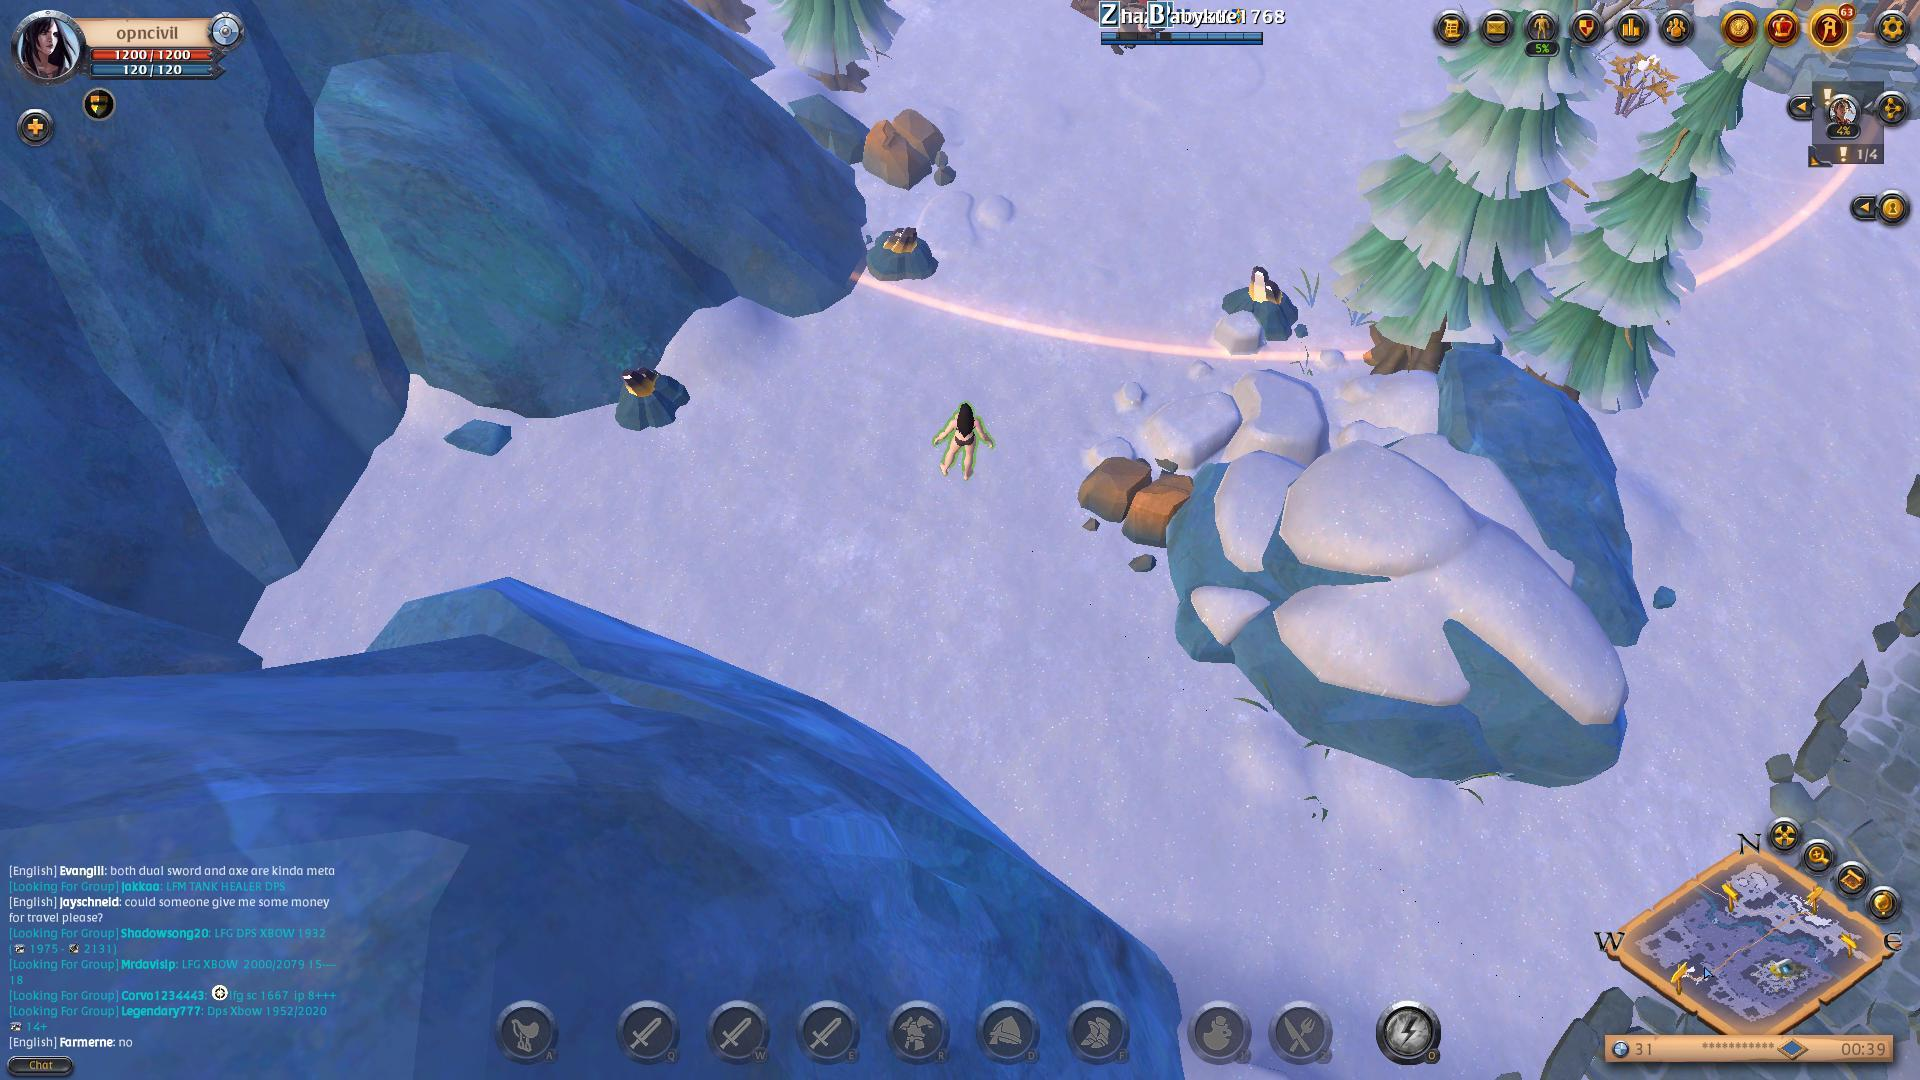copper_ore: (599, 365, 692, 434), (1220, 260, 1303, 334), (852, 223, 943, 284)
limestone: (1073, 454, 1207, 542), (849, 103, 959, 187)
